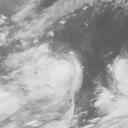cyclone: (31, 46, 83, 98)
